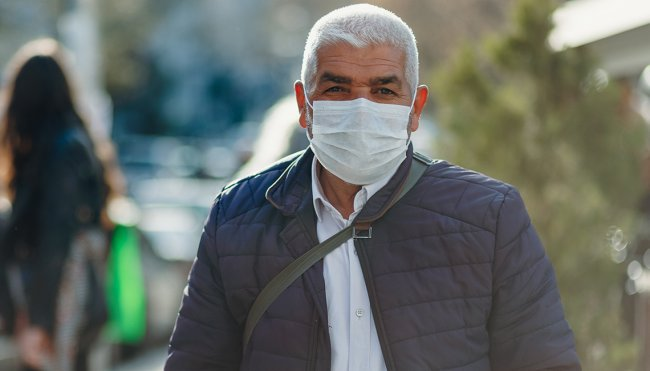mask: (289, 9, 435, 197)
